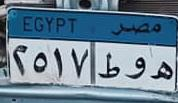1: (54, 47, 65, 78)
2: (12, 44, 29, 77)
5: (33, 51, 48, 72)
7: (70, 45, 90, 78)
Taa: (100, 53, 119, 80)
haa: (149, 58, 174, 82)
waw: (126, 56, 146, 78)
